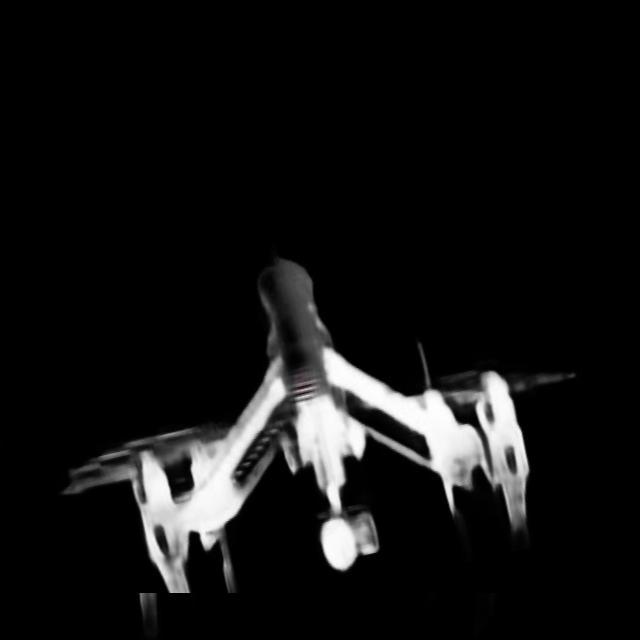drone: (39, 238, 587, 593)
